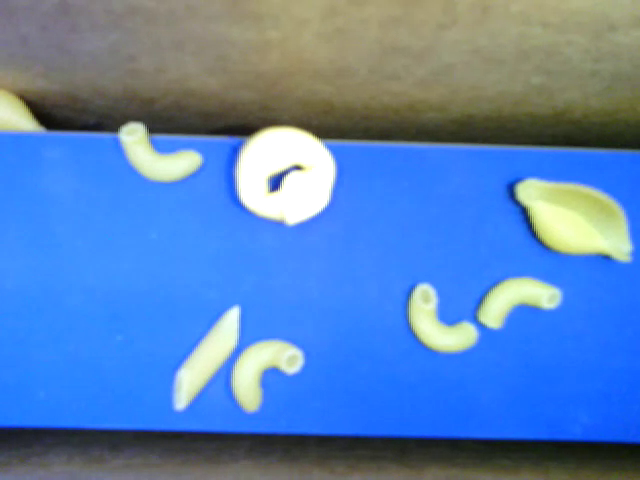elbow: (404, 280, 479, 355), (230, 337, 304, 412), (118, 119, 204, 182), (476, 274, 563, 329)
penne: (170, 303, 241, 413)
shell: (508, 172, 634, 264), (1, 90, 51, 131)
tortellini: (235, 123, 337, 227)
